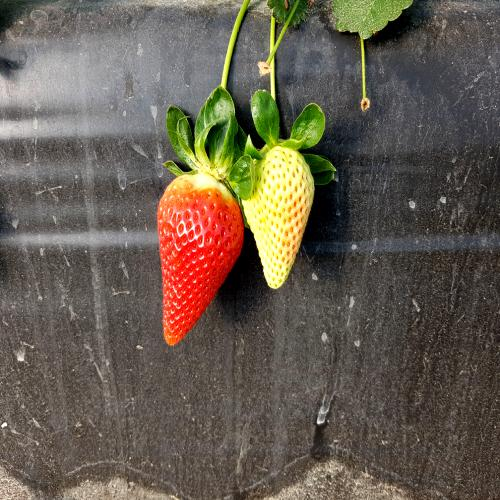ripe: (154, 164, 247, 351)
